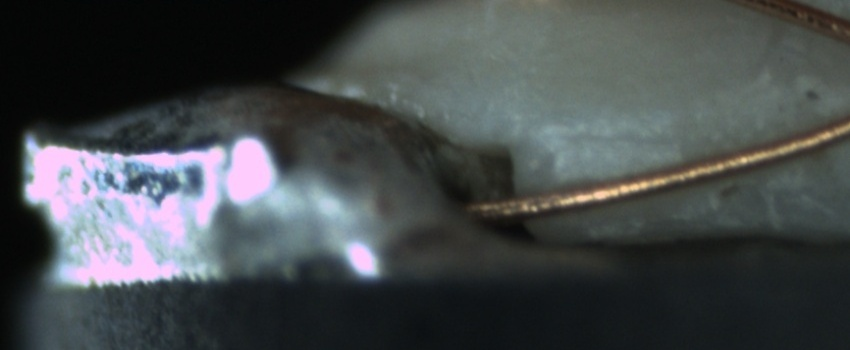DL: (555, 106, 697, 169)
